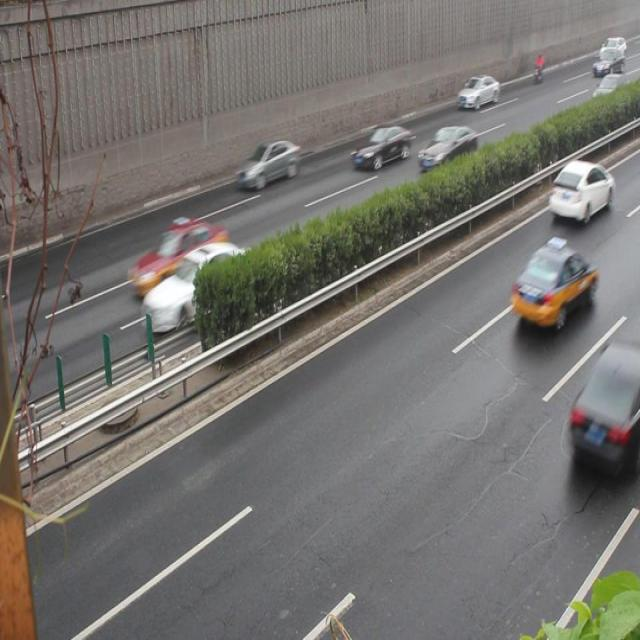car: (142, 242, 263, 330), (565, 338, 640, 475), (508, 238, 595, 326), (128, 221, 226, 295), (548, 159, 612, 220), (236, 140, 300, 188), (350, 123, 411, 172), (416, 126, 478, 174), (455, 73, 498, 114)
